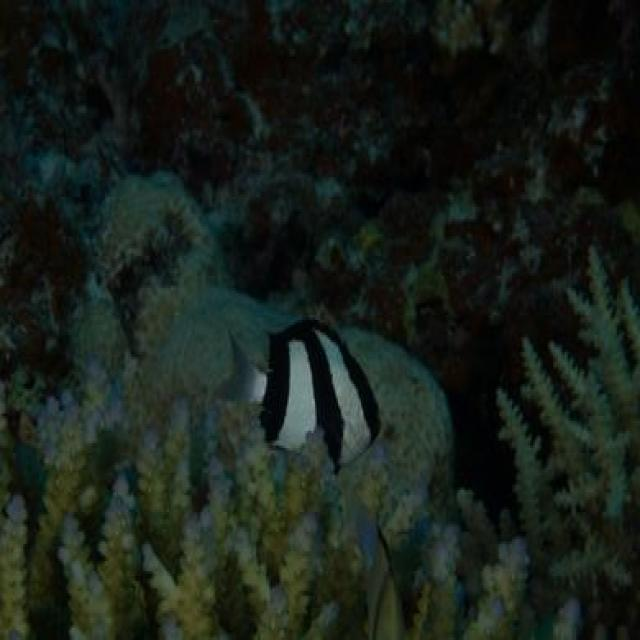ThreeStripedDamselfish: (218, 320, 386, 469)
